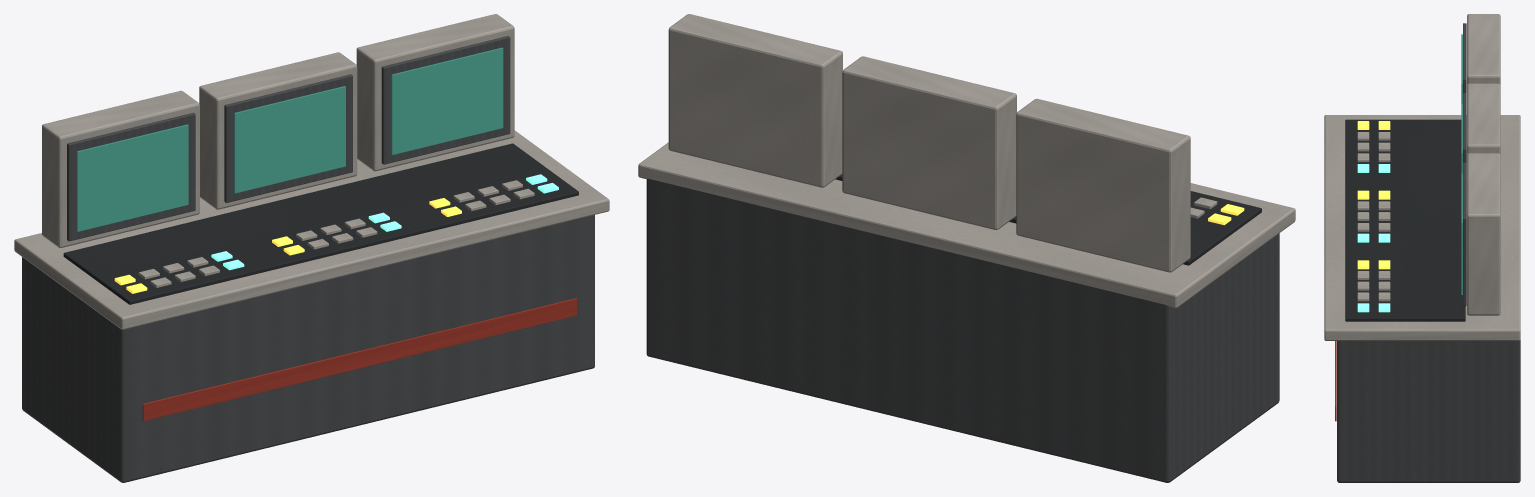
File: launch_control_desk.glb
The picture shows the model from 3 angles, left to right: view 1: azimuth 30°, elevation 25°; view 2: azimuth 150°, elevation 25°; view 3: azimuth 270°, elevation 25°; orthographic projection. The views are drawn at different scales.
Parts seen in each view (by area): view 1: console_base, console_panel, desk_top.001, monitor_screen_02.001, monitor_screen_00.001, monitor_screen_01.001, front_red_stripe, monitor_housing.007, monitor_housing.008, monitor_housing.006, monitor_bezel.005, monitor_bezel.004 (+1 smaller); view 2: console_base, monitor_housing.007, monitor_housing.008, monitor_housing.006, desk_top.001, console_panel; view 3: console_base, console_panel, desk_top.001, monitor_housing.008, monitor_housing.007, monitor_housing.006, monitor_bezel.005, monitor_bezel.003, monitor_bezel.004, monitor_screen_02.001.
Boxes of the visible parts, x1,y1,x2,y2 form: console_base: [22, 215, 594, 482]; console_panel: [63, 143, 578, 304]; desk_top.001: [14, 130, 609, 329]; monitor_screen_02.001: [391, 47, 503, 154]; monitor_screen_00.001: [77, 124, 188, 231]; monitor_screen_01.001: [234, 86, 345, 193]; front_red_stripe: [142, 298, 576, 421]; monitor_housing.007: [199, 52, 357, 209]; monitor_housing.008: [356, 14, 514, 171]; monitor_housing.006: [42, 90, 199, 247]; monitor_bezel.005: [381, 36, 510, 164]; monitor_bezel.004: [224, 74, 352, 202]; console_base: [646, 178, 1279, 482]; monitor_housing.007: [842, 56, 1016, 229]; monitor_housing.008: [668, 14, 842, 187]; monitor_housing.006: [1016, 98, 1190, 272]; desk_top.001: [638, 142, 1295, 308]; console_panel: [835, 174, 1261, 265]; console_base: [1337, 340, 1520, 482]; console_panel: [1345, 119, 1465, 321]; desk_top.001: [1324, 115, 1520, 340]; monitor_housing.008: [1467, 153, 1500, 315]; monitor_housing.007: [1467, 83, 1500, 154]; monitor_housing.006: [1467, 14, 1500, 84]; monitor_bezel.005: [1463, 162, 1466, 306]; monitor_bezel.003: [1463, 23, 1466, 92]; monitor_bezel.004: [1463, 93, 1466, 162]; monitor_screen_02.001: [1461, 173, 1462, 294].
Bounding box in the file's own units: 2.42 × 1.38 × 0.93.
Materials: 7 (4 with a texture image).
